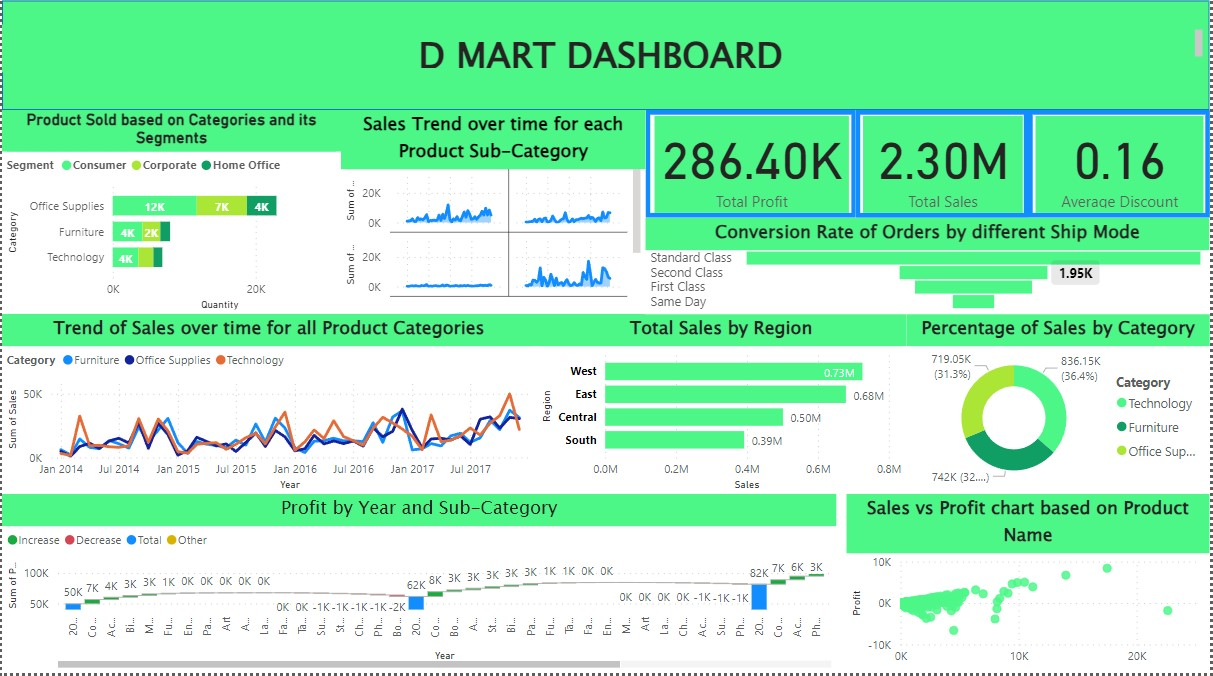

Layout of this report page (visuals, bound fields, positions):
{"tool":"powerbi","page":{"name":"DASHBOARD","canvas":[1280,720],"ordinal":10},"visuals":[{"type":"group","id":"g1","title":"Group 1","box":[0,7.9,1279.5,116],"z":0},{"type":"shape","box":[0,7.9,1279.5,116],"z":0,"group":"g1"},{"type":"shape","box":[681.9,124,223.1,114],"z":0,"group":"g2"},{"type":"shape","box":[904.4,124,183.3,114],"z":0,"group":"g3"},{"type":"shape","box":[1087.2,124,192.9,114],"z":0,"group":"g4"},{"type":"textbox","box":[0.2,34,1276.7,50.8],"z":1000,"group":"g1"},{"type":"card","fields":{"Values":["Sum(Orders.Profit)"]},"box":[691.1,129.8,205.8,102.4],"z":1000,"group":"g2"},{"type":"card","fields":{"Values":["Sum(Orders.Sales)"]},"box":[911.9,129.8,169.1,102.4],"z":1000,"group":"g3"},{"type":"card","fields":{"Values":["Avg(Orders.Discount)"]},"box":[1095.1,129.8,177.9,102.4],"z":1000,"group":"g4"},{"type":"scatterChart","title":"Sales vs Profit chart based on Product Name","fields":{"Y":["Orders.Profit"],"X":["Orders.Sales"]},"box":[894.8,530.9,384.6,189.1],"z":1000},{"type":"waterfallChart","title":"Profit by Year and Sub-Category","fields":{"Category":["Orders.Order Date.Variation.Date Hierarchy.Year","Orders.Order Date.Variation.Date Hierarchy.Quarter","Orders.Order Date.Variation.Date Hierarchy.Month","Orders.Order Date.Variation.Date Hierarchy.Day"],"Breakdown":["Orders.Sub-Category"],"Y":["Sum(Orders.Profit)"]},"box":[0,530.9,883.7,189.1],"z":2000},{"type":"donutChart","title":"Percentage of Sales by Category","fields":{"Y":["Sum(Orders.Sales)"],"Category":["Orders.Category"]},"box":[958.4,340.1,321.1,190.7],"z":3000},{"type":"lineChart","title":"Trend of Sales over time for all Product Categories","fields":{"Y":["Sum(Orders.Sales)"],"Category":["Orders.Order Date.Variation.Date Hierarchy.Year","Orders.Order Date.Variation.Date Hierarchy.Month"],"Series":["Orders.Category"]},"box":[0,340.1,565.8,190.7],"z":4000},{"type":"barChart","title":"Total Sales by Region","fields":{"Category":["Orders.Region"],"Y":["Sum(Orders.Sales)"]},"box":[565.8,340.1,392.6,190.7],"z":5000},{"type":"barChart","title":"Product Sold based on Categories and its Segments","fields":{"Y":["Sum(Orders.Quantity)"],"Category":["Orders.Category"],"Series":["Orders.Segment"]},"box":[0,124,359.2,216.2],"z":6000},{"type":"group","id":"g2","title":"Group 1","box":[681.9,124,222.5,114.4],"z":7000},{"type":"group","id":"g3","title":"Group 2","box":[904.4,124,182.8,114.4],"z":8000},{"type":"group","id":"g4","title":"Group 3","box":[1087.2,124,192.3,114.4],"z":9000},{"type":"stackedAreaChart","title":"Sales Trend over time for each Product Sub-Category","fields":{"Y":["Sum(Orders.Sales)"],"Category":["Orders.Order Date.Variation.Date Hierarchy.Year","Orders.Order Date.Variation.Date Hierarchy.Month"],"Rows":["Orders.Sub-Category"]},"box":[359.2,124,322.6,203.4],"z":9001},{"type":"funnel","title":"Conversion Rate of Orders by different Ship Mode","fields":{"Category":["Orders.Ship Mode"],"Y":["CountNonNull(Orders.Order ID)"]},"box":[681.9,238.4,597.6,101.7],"z":9002}]}

Visuals, with their boxes in screenshot pixels (x1, y1, x2, y2), scaled from the page's 1280x720 canvas onto the 1213x676 screenshot:
"Group 1" group: (0,7,1212,116)
shape: (0,7,1212,116)
shape: (646,116,858,223)
shape: (857,116,1031,223)
shape: (1030,116,1212,223)
textbox: (0,32,1210,80)
card - Sum(Orders.Profit): (655,122,850,218)
card - Sum(Orders.Sales): (864,122,1024,218)
card - Avg(Orders.Discount): (1038,122,1206,218)
"Sales vs Profit chart based on Product Name" scatterChart: (848,498,1212,675)
"Profit by Year and Sub-Category" waterfallChart: (0,498,837,675)
"Percentage of Sales by Category" donutChart: (908,319,1212,498)
"Trend of Sales over time for all Product Categories" lineChart: (0,319,536,498)
"Total Sales by Region" barChart: (536,319,908,498)
"Product Sold based on Categories and its Segments" barChart: (0,116,340,319)
"Group 1" group: (646,116,857,224)
"Group 2" group: (857,116,1030,224)
"Group 3" group: (1030,116,1212,224)
"Sales Trend over time for each Product Sub-Category" stackedAreaChart: (340,116,646,307)
"Conversion Rate of Orders by different Ship Mode" funnel: (646,224,1212,319)
